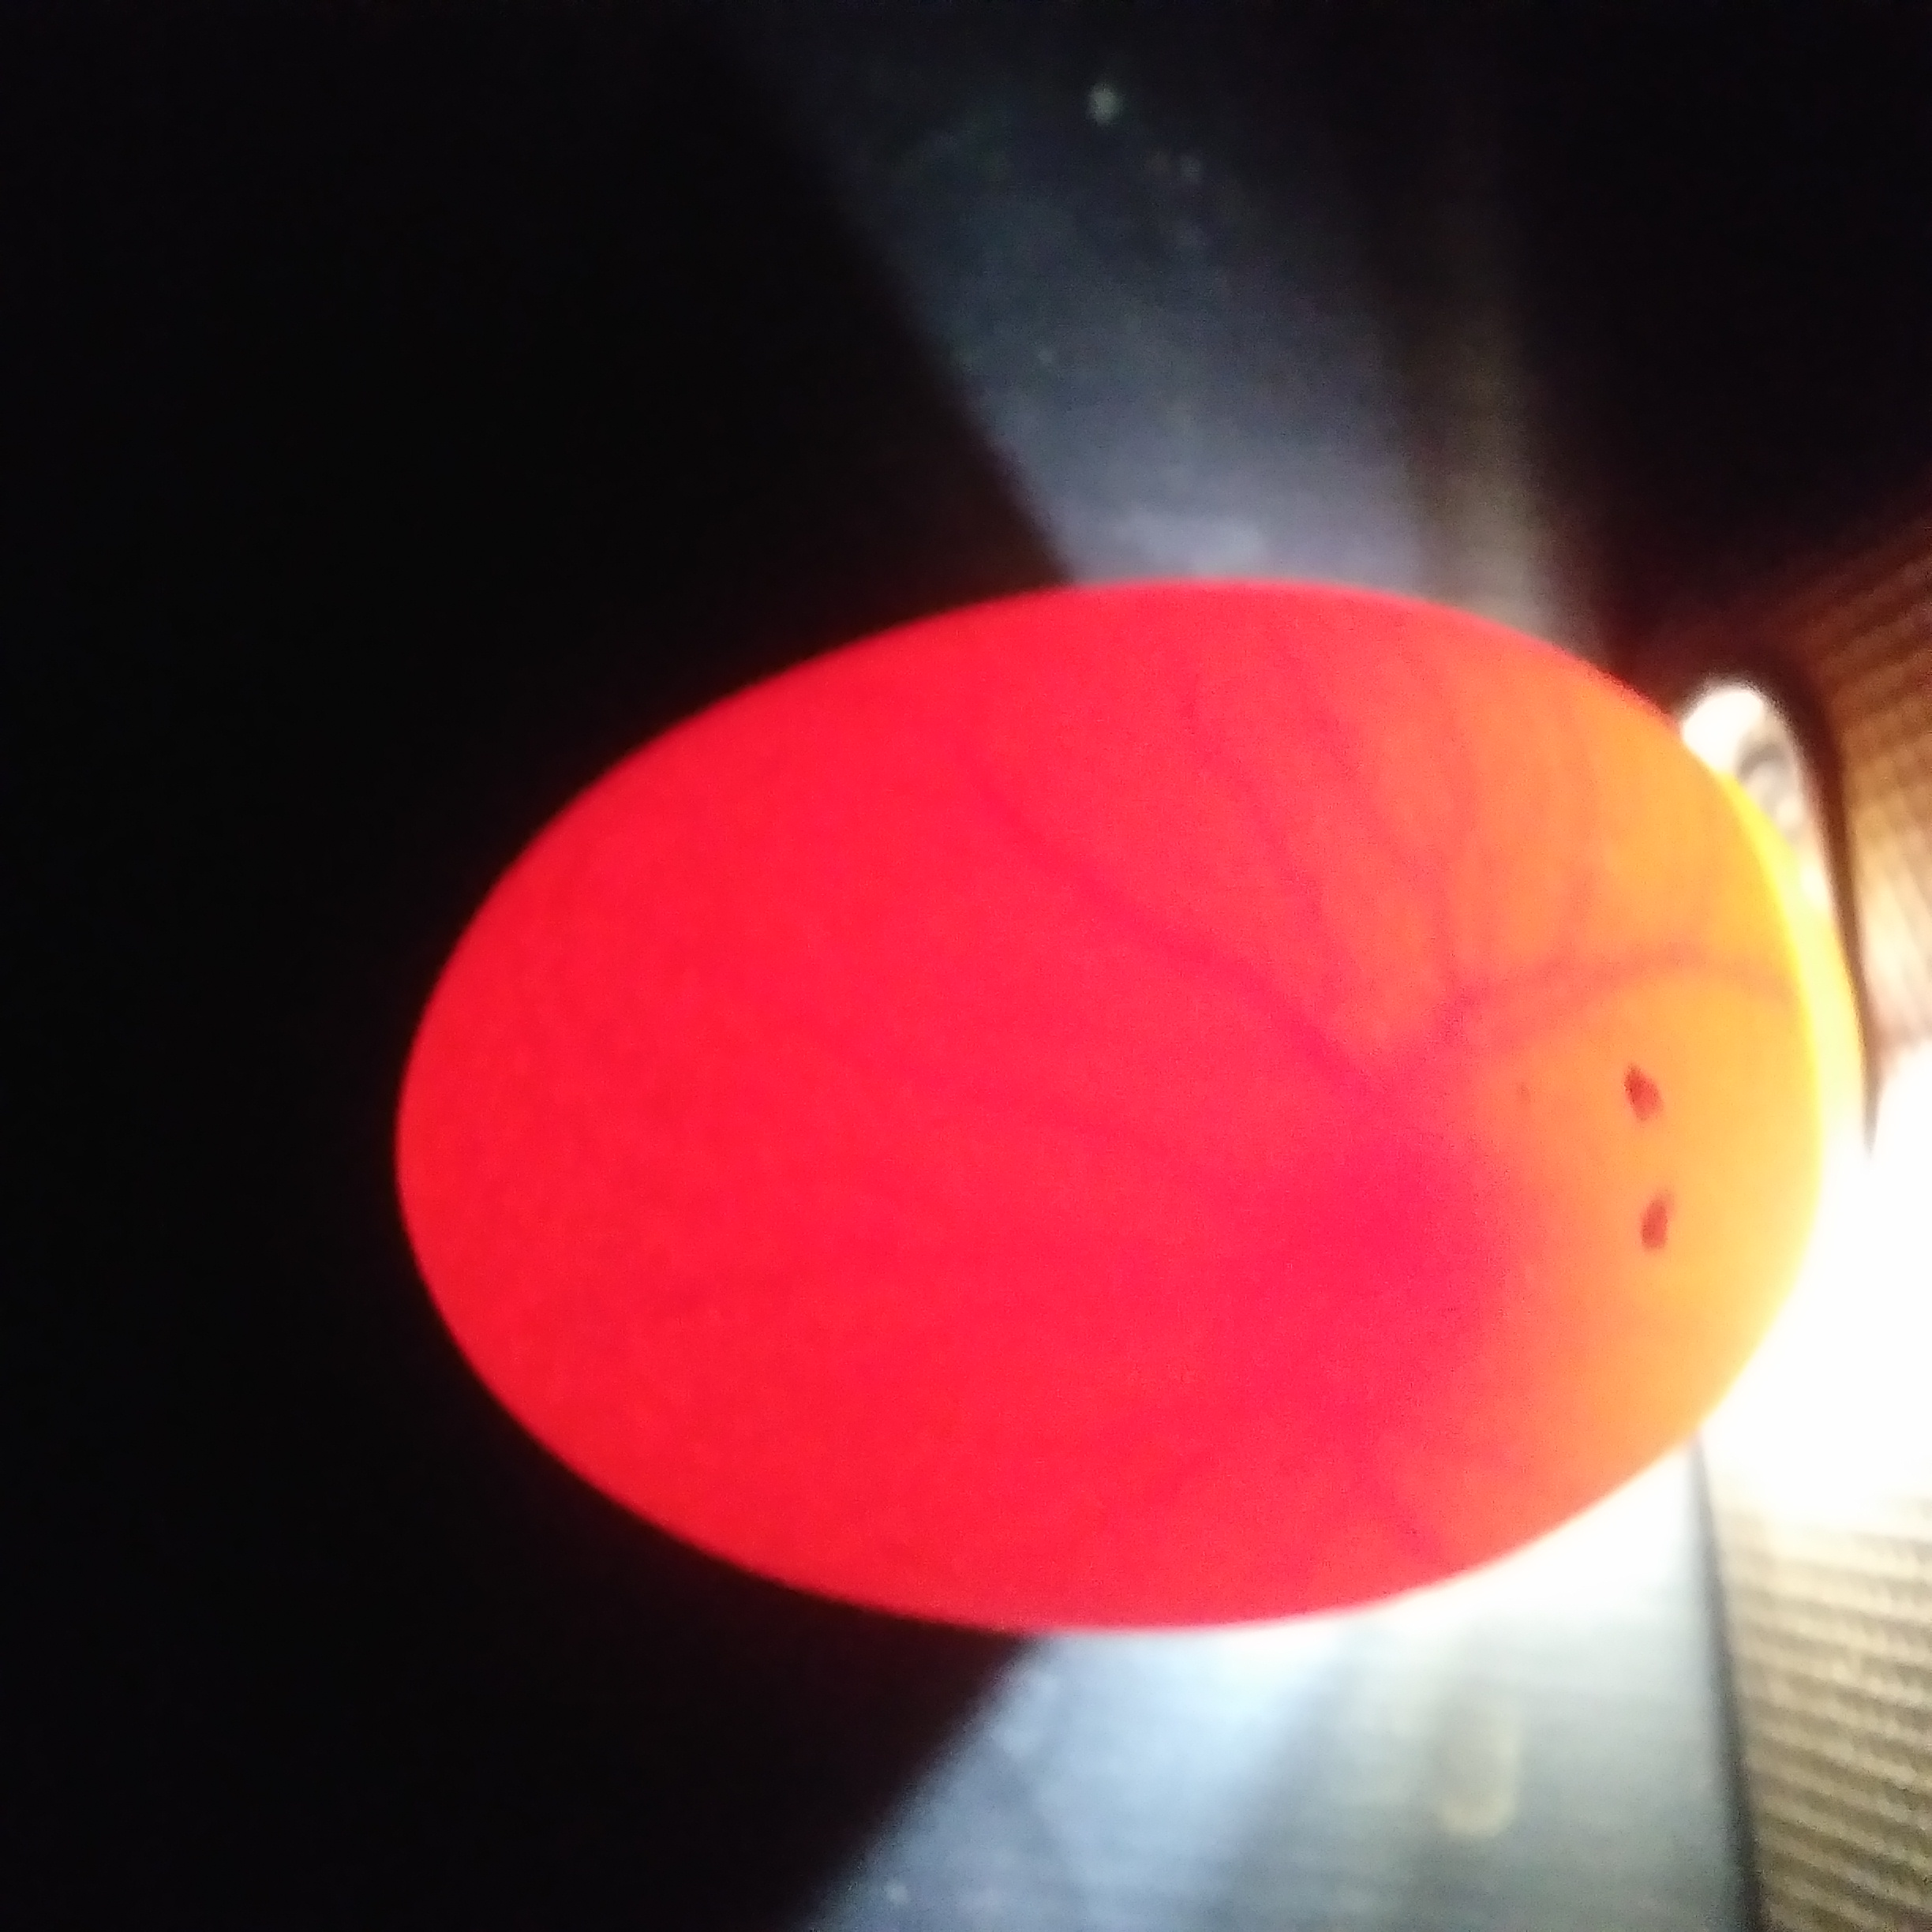bloodcell: (1108, 630, 1668, 1063), (895, 1364, 1516, 1585)
embryo: (1309, 1113, 1502, 1352)
